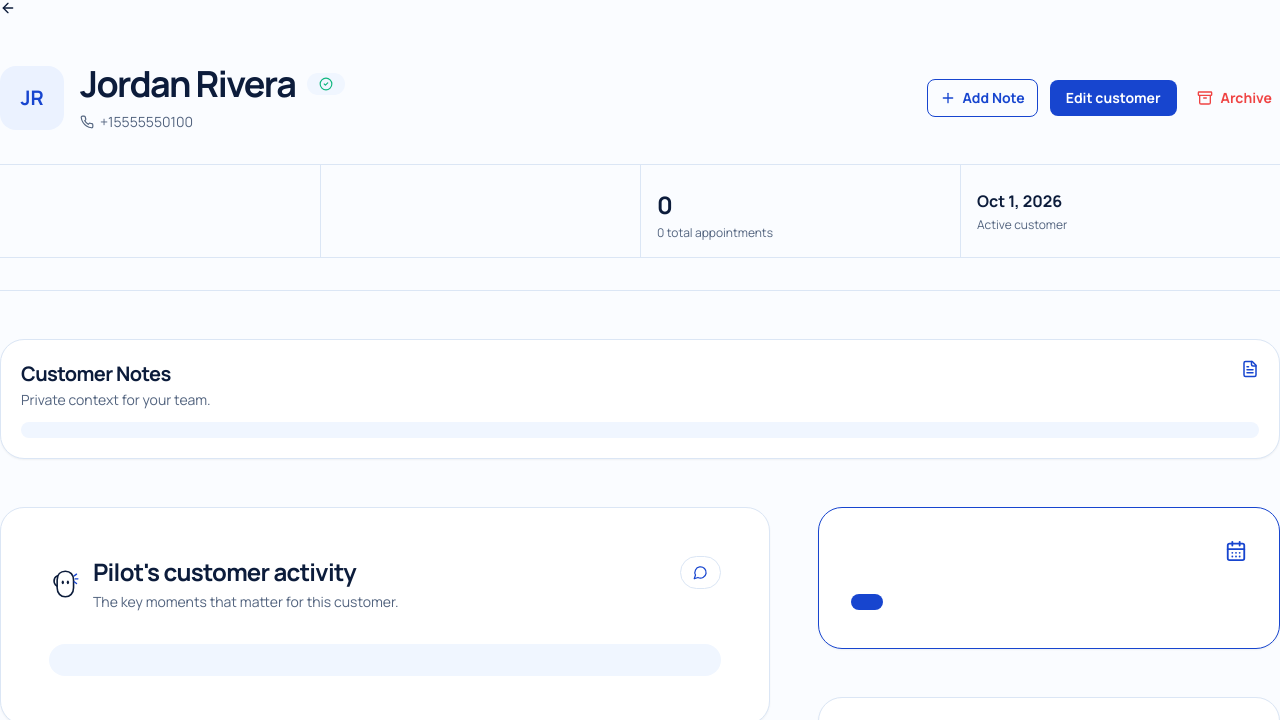
Scenario: Customer profile notes › opens a dialog from + Add Note, saves for this customer, and shows the note straight away
Click the button "Add Note" at (983, 98), box [927,79,1038,117]
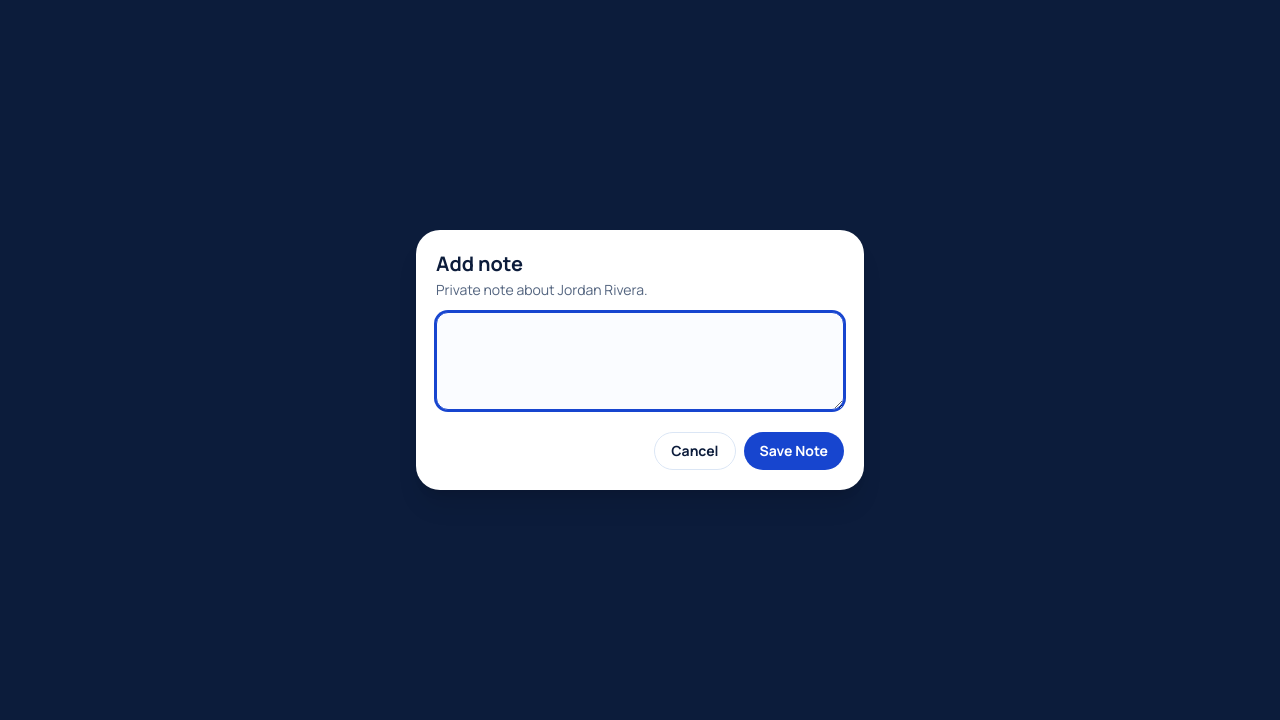
Type "Always go through back gate" into the text box at (640, 361), box [436,312,844,410]
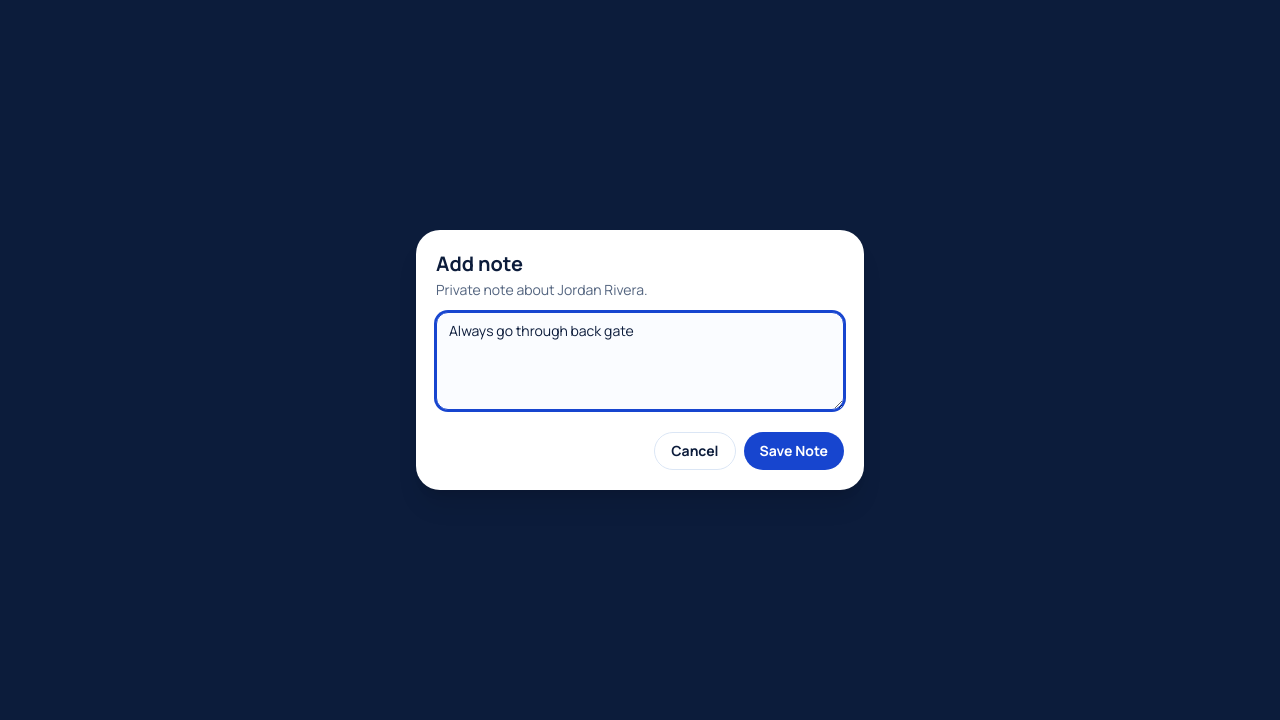
Click the button "Save Note" at (794, 451), box [744,432,844,470]
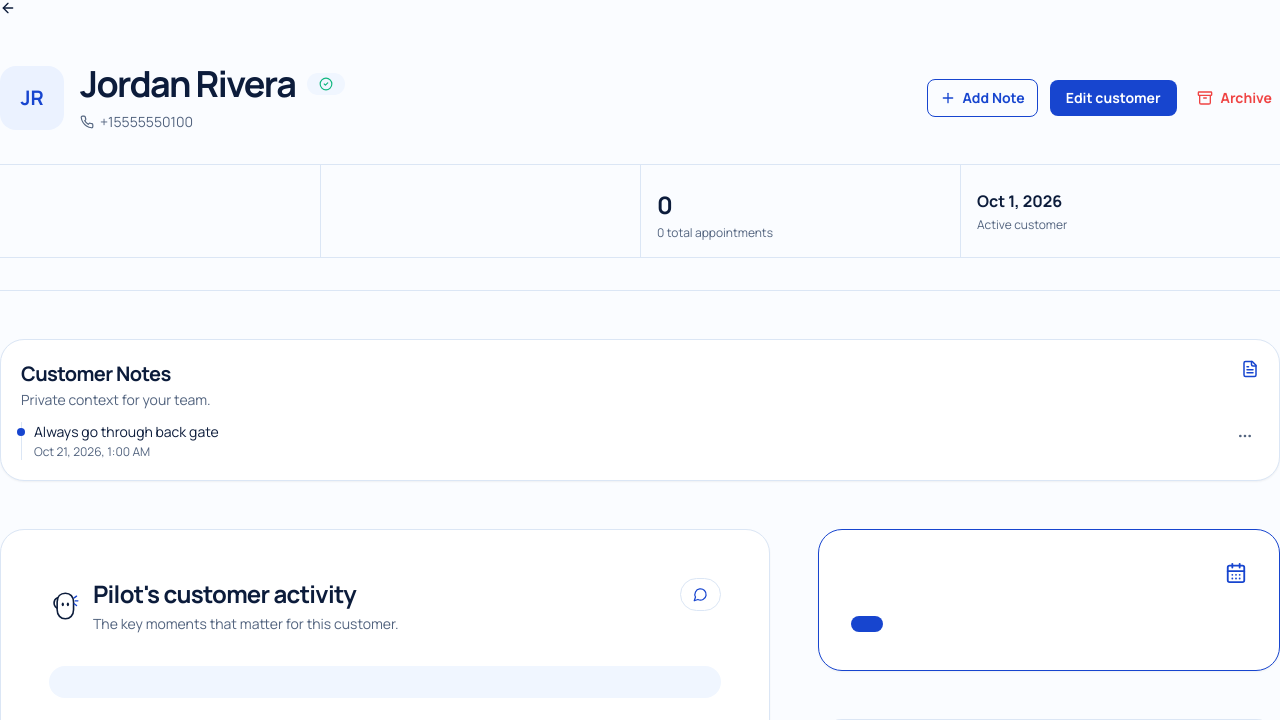
Now the dialog is gone
Now the element with id "customer-notes-title" shows "Always go through back gate", box [34,422,219,441]
